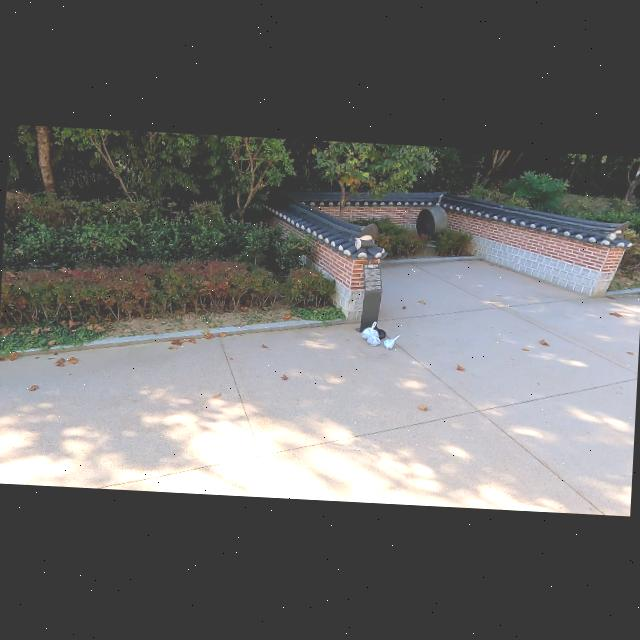trash: (360, 318, 382, 341), (383, 334, 401, 351), (366, 332, 382, 348), (370, 325, 387, 339)
